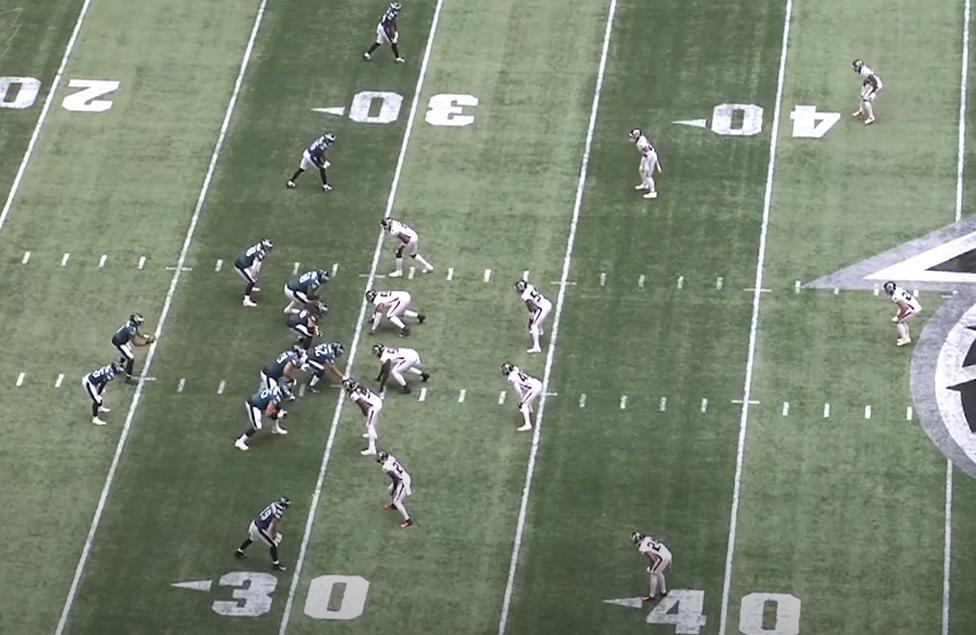player: (233, 494, 294, 571), (234, 384, 293, 456), (631, 528, 675, 620), (286, 129, 343, 199), (260, 345, 307, 429), (385, 215, 439, 283), (372, 343, 432, 404), (342, 375, 383, 464), (235, 237, 278, 316), (381, 449, 420, 536), (109, 311, 154, 384), (503, 360, 545, 437), (363, 288, 426, 339), (82, 357, 125, 430), (298, 339, 351, 398), (627, 127, 665, 209), (362, 2, 409, 68), (516, 275, 553, 358), (849, 57, 886, 130), (888, 279, 924, 353), (281, 267, 331, 313), (288, 305, 333, 351)
